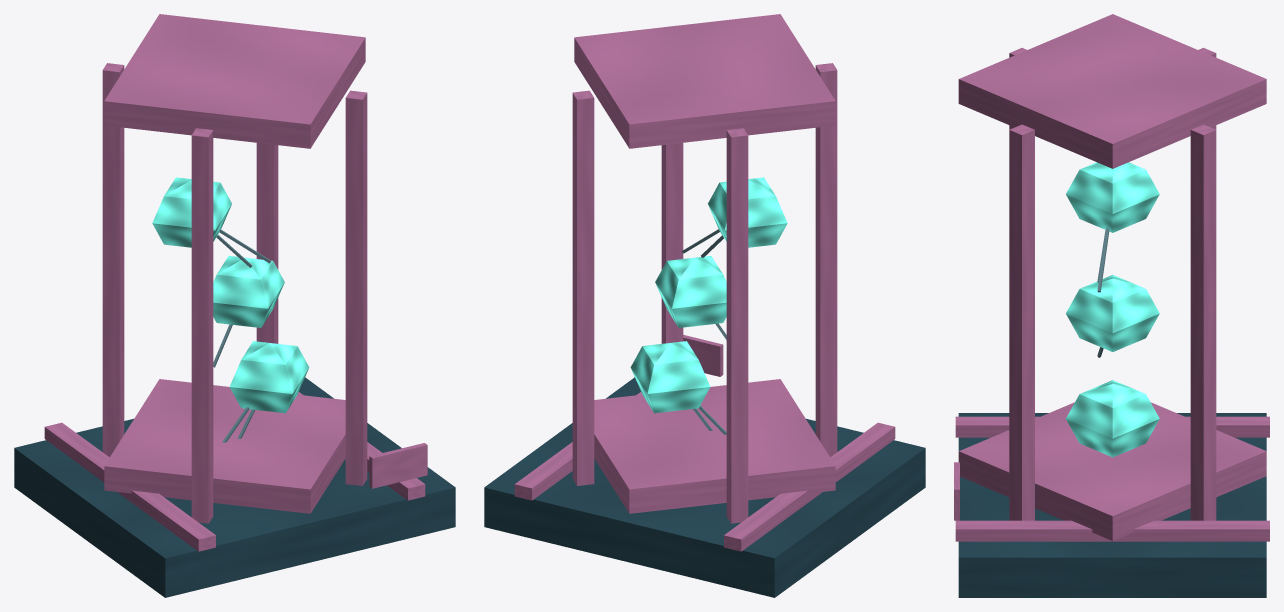
The model's file is atlas100-s070-a02.lod2.glb.
3 renders of one model, left to right at view 1: azimuth 30°, elevation 25°; view 2: azimuth 150°, elevation 25°; view 3: azimuth 270°, elevation 25°, orthographic.
Visible parts, largest first — view 1: atlas100-s070-a02:part-000, atlas100-s070-a02:part-004, atlas100-s070-a02:part-003, atlas100-s070-a02:part-005, atlas100-s070-a02:part-007, atlas100-s070-a02:part-009, atlas100-s070-a02:part-013, atlas100-s070-a02:part-018, atlas100-s070-a02:part-001, atlas100-s070-a02:part-011, atlas100-s070-a02:part-023, atlas100-s070-a02:part-028 (+1 smaller); view 2: atlas100-s070-a02:part-000, atlas100-s070-a02:part-004, atlas100-s070-a02:part-003, atlas100-s070-a02:part-011, atlas100-s070-a02:part-009, atlas100-s070-a02:part-007, atlas100-s070-a02:part-013, atlas100-s070-a02:part-018, atlas100-s070-a02:part-001, atlas100-s070-a02:part-005, atlas100-s070-a02:part-023, atlas100-s070-a02:part-002 (+1 smaller); view 3: atlas100-s070-a02:part-004, atlas100-s070-a02:part-000, atlas100-s070-a02:part-003, atlas100-s070-a02:part-011, atlas100-s070-a02:part-005, atlas100-s070-a02:part-002, atlas100-s070-a02:part-013, atlas100-s070-a02:part-018, atlas100-s070-a02:part-023, atlas100-s070-a02:part-001.
Part boxes in pixels (left/top/right/bottom): atlas100-s070-a02:part-000: left=14, top=377, right=455, bottom=597; atlas100-s070-a02:part-004: left=104, top=14, right=365, bottom=148; atlas100-s070-a02:part-003: left=104, top=379, right=345, bottom=513; atlas100-s070-a02:part-005: left=345, top=90, right=367, bottom=485; atlas100-s070-a02:part-007: left=191, top=128, right=213, bottom=523; atlas100-s070-a02:part-009: left=102, top=63, right=124, bottom=457; atlas100-s070-a02:part-013: left=229, top=341, right=309, bottom=413; atlas100-s070-a02:part-018: left=213, top=256, right=284, bottom=327; atlas100-s070-a02:part-001: left=44, top=422, right=215, bottom=551; atlas100-s070-a02:part-011: left=256, top=25, right=278, bottom=343; atlas100-s070-a02:part-023: left=152, top=177, right=231, bottom=247; atlas100-s070-a02:part-028: left=369, top=443, right=427, bottom=488; atlas100-s070-a02:part-000: left=484, top=377, right=925, bottom=597; atlas100-s070-a02:part-004: left=574, top=14, right=835, bottom=148; atlas100-s070-a02:part-003: left=594, top=379, right=835, bottom=513; atlas100-s070-a02:part-011: left=572, top=90, right=594, bottom=485; atlas100-s070-a02:part-009: left=726, top=128, right=748, bottom=523; atlas100-s070-a02:part-007: left=815, top=63, right=837, bottom=457; atlas100-s070-a02:part-013: left=630, top=341, right=710, bottom=413; atlas100-s070-a02:part-018: left=655, top=256, right=726, bottom=327; atlas100-s070-a02:part-001: left=724, top=422, right=895, bottom=551; atlas100-s070-a02:part-005: left=661, top=25, right=683, bottom=343; atlas100-s070-a02:part-023: left=708, top=177, right=787, bottom=247; atlas100-s070-a02:part-002: left=514, top=392, right=641, bottom=500; atlas100-s070-a02:part-004: left=958, top=14, right=1266, bottom=168; atlas100-s070-a02:part-000: left=958, top=413, right=1266, bottom=597; atlas100-s070-a02:part-003: left=958, top=402, right=1266, bottom=540; atlas100-s070-a02:part-011: left=1190, top=124, right=1216, bottom=520; atlas100-s070-a02:part-005: left=1009, top=124, right=1034, bottom=520; atlas100-s070-a02:part-002: left=955, top=520, right=1269, bottom=541; atlas100-s070-a02:part-013: left=1066, top=380, right=1159, bottom=457; atlas100-s070-a02:part-018: left=1066, top=275, right=1159, bottom=351; atlas100-s070-a02:part-023: left=1066, top=162, right=1159, bottom=232; atlas100-s070-a02:part-001: left=955, top=416, right=1269, bottom=437.
Bounding box in the file's own units: 2 × 2.88 × 1.85.
4 materials, 4 textured.
